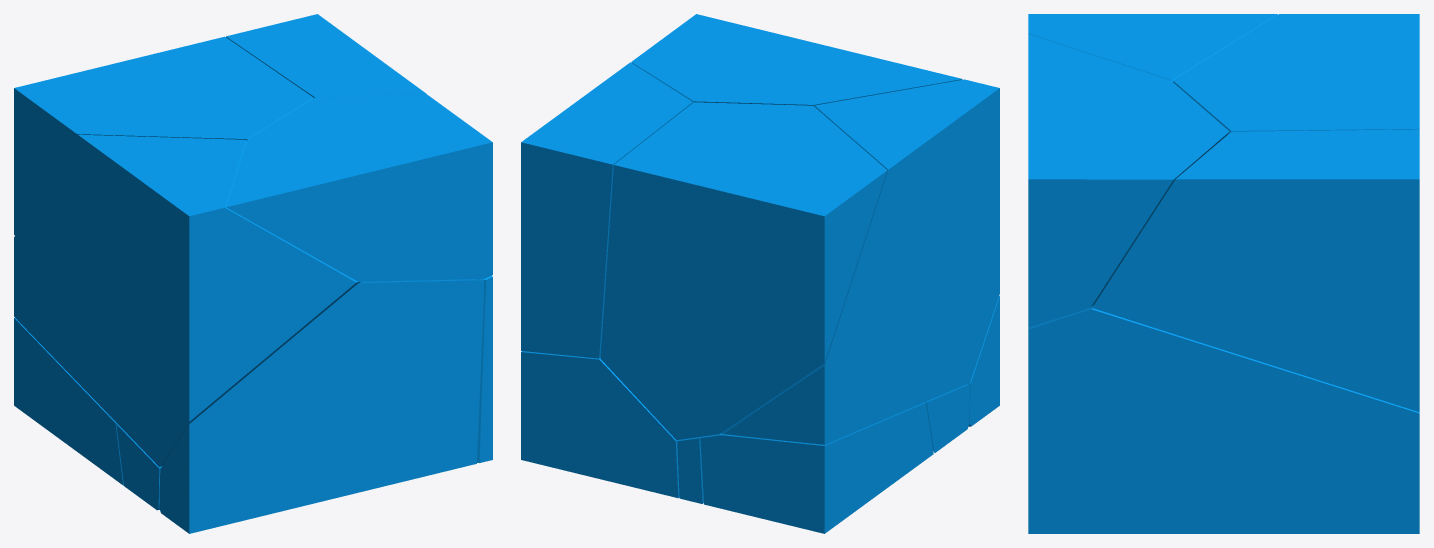
Rendered from FracturedCube.fbx.
3 renders of one model, left to right at view 1: azimuth 30°, elevation 25°; view 2: azimuth 150°, elevation 25°; view 3: azimuth 270°, elevation 25°, orthographic. The views are drawn at different scales.
Parts seen in each view (by area): view 1: Cube_cell.002, Cube_cell.001, Cube_cell.003, Cube_cell.004, Cube_cell.005, Cube_cell.006_cell, Cube_cell.007, Cube_cell.006_cell.001; view 2: Cube_cell.004, Cube_cell.002, Cube_cell.005, Cube_cell.006_cell, Cube_cell.003, Cube_cell.007, Cube_cell.001, Cube_cell.006_cell.001, Cube_cell.006_cell.003; view 3: Cube_cell.007, Cube_cell.005, Cube_cell.003, Cube_cell.004, Cube_cell.002.
Part boxes in pixels (left/top/right/bottom): Cube_cell.002: left=14, top=134, right=360, bottom=467; Cube_cell.001: left=159, top=279, right=484, bottom=533; Cube_cell.003: left=226, top=95, right=492, bottom=281; Cube_cell.004: left=14, top=36, right=313, bottom=235; Cube_cell.005: left=226, top=14, right=426, bottom=97; Cube_cell.006_cell: left=14, top=317, right=123, bottom=485; Cube_cell.007: left=475, top=275, right=492, bottom=462; Cube_cell.006_cell.001: left=116, top=424, right=161, bottom=510; Cube_cell.004: left=600, top=102, right=887, bottom=439; Cube_cell.002: left=721, top=79, right=999, bottom=444; Cube_cell.005: left=521, top=62, right=692, bottom=358; Cube_cell.006_cell: left=700, top=402, right=933, bottom=533; Cube_cell.003: left=631, top=14, right=962, bottom=105; Cube_cell.007: left=521, top=351, right=679, bottom=498; Cube_cell.001: left=967, top=295, right=999, bottom=426; Cube_cell.006_cell.001: left=925, top=384, right=969, bottom=452; Cube_cell.006_cell.003: left=677, top=437, right=703, bottom=503; Cube_cell.007: left=1028, top=305, right=1419, bottom=533; Cube_cell.005: left=1092, top=129, right=1419, bottom=411; Cube_cell.003: left=1028, top=34, right=1229, bottom=327; Cube_cell.004: left=1173, top=14, right=1419, bottom=134; Cube_cell.002: left=1028, top=14, right=1277, bottom=81.
Bounding box in the file's own units: 50 × 50 × 50.
